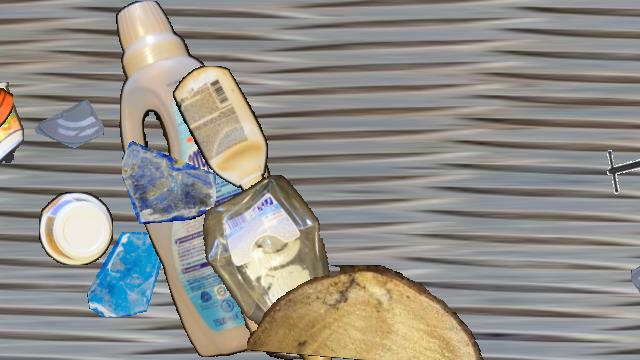glass: (122, 130, 216, 224), (85, 232, 169, 316), (35, 93, 103, 161), (631, 234, 640, 322)
metal: (237, 150, 299, 212), (598, 147, 640, 195)
plastic: (114, 1, 318, 357), (198, 175, 344, 359), (173, 66, 267, 194), (39, 192, 113, 264), (0, 82, 23, 180), (0, 1, 12, 129)
wood: (247, 265, 487, 359), (239, 253, 315, 359)
